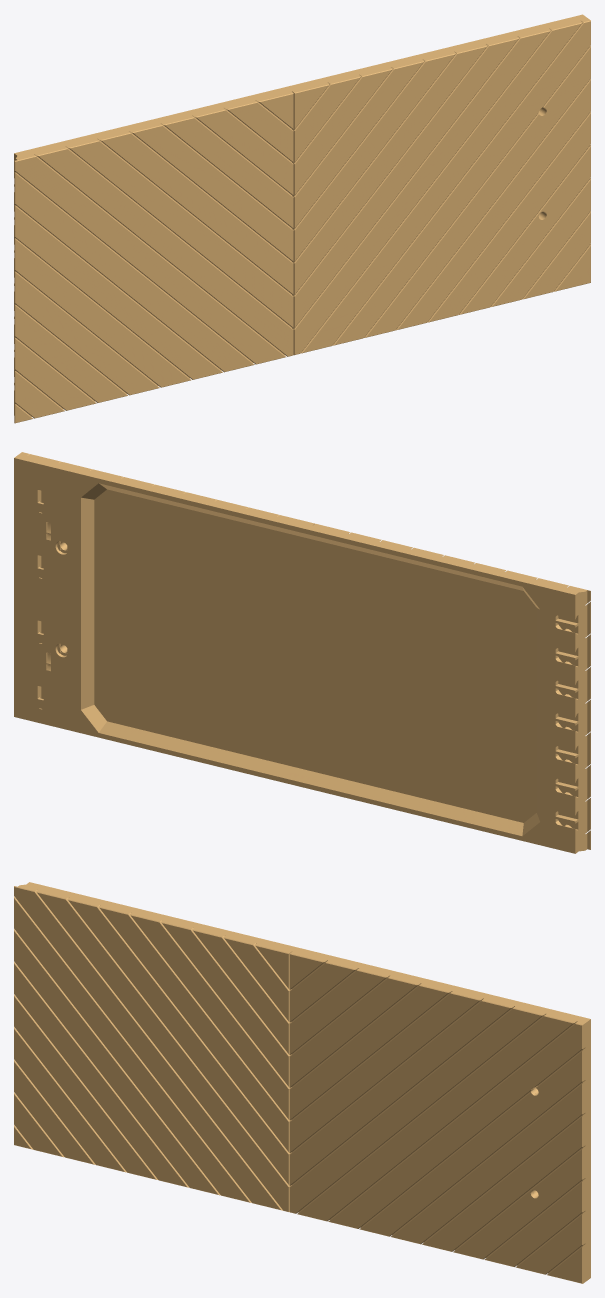
Rendered from Door_Chevron_3W-2H.lib.glb.
3 views of the same model, one above another, from view 1: azimuth 30°, elevation 25°; view 2: azimuth 150°, elevation 25°; view 3: azimuth 330°, elevation 25° (orthographic).
Parts seen in each view (by area): view 1: Door_Chevron_3W-2H; view 2: Door_Chevron_3W-2H; view 3: Door_Chevron_3W-2H.
Part boxes in pixels (x1,y1,x2,y2): Door_Chevron_3W-2H: (14,14,590,423); Door_Chevron_3W-2H: (14,452,590,853); Door_Chevron_3W-2H: (14,882,590,1283).
Size of the model in its own units: 255 by 111 by 6.51.
